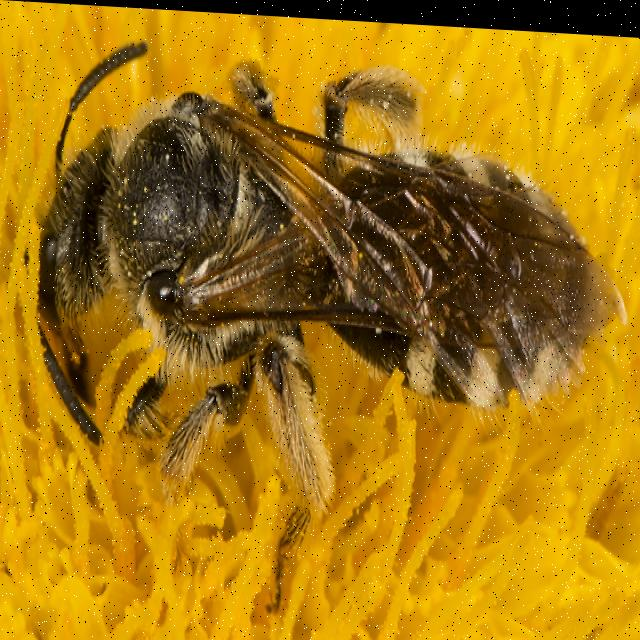Lasioglossum: (40, 19, 614, 462)
